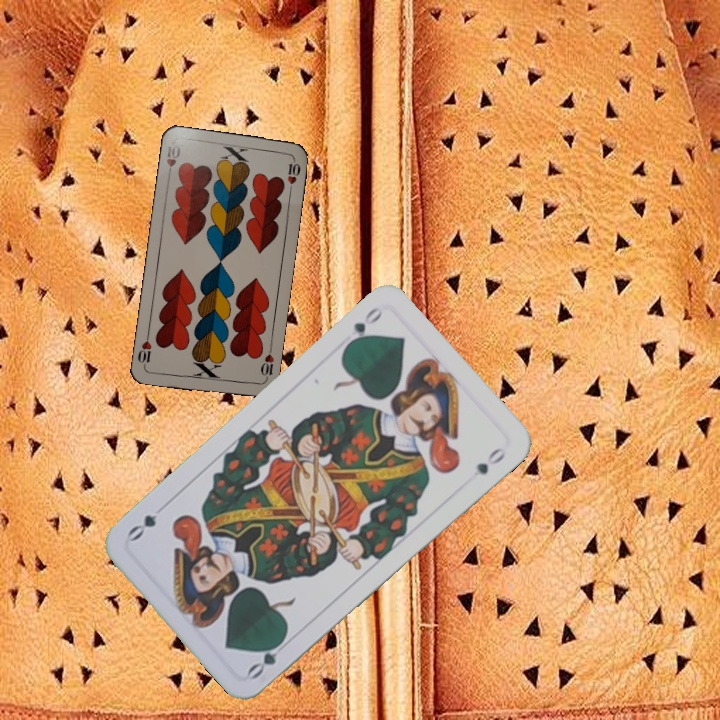GO: (243, 631, 292, 682), (340, 302, 385, 352)
H10: (162, 141, 183, 181), (256, 343, 276, 384)
